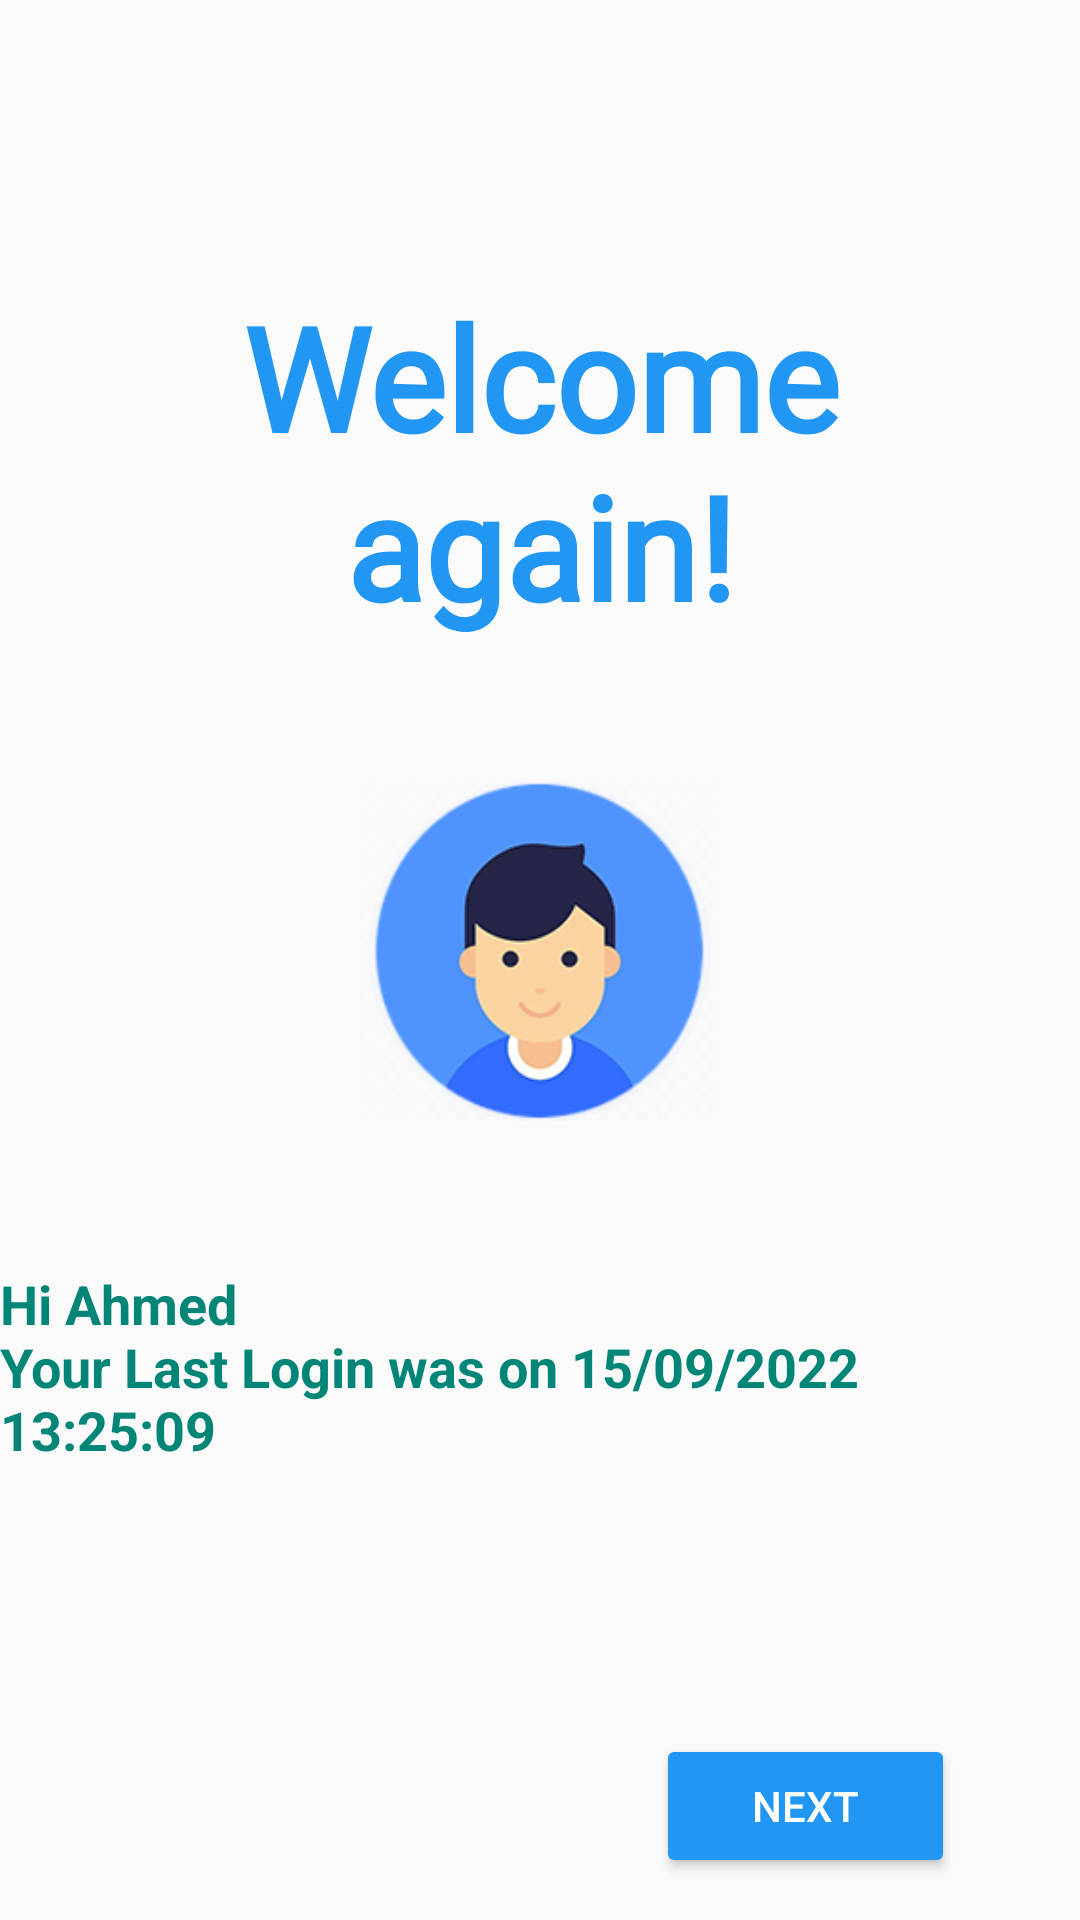

Where to tap for icons on this 1080x1920 app screen, as (x,y):
user: (539,951)
